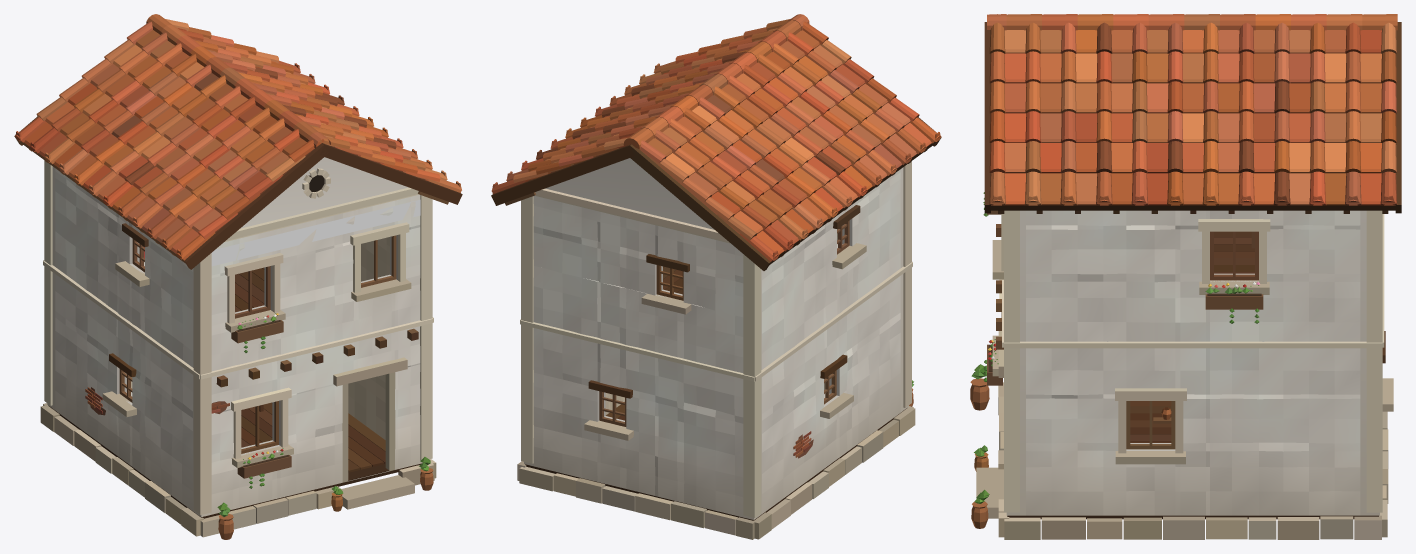
Rendered from pleb_2_2.glb.
3 views of the same model, side by side, from view 1: azimuth 30°, elevation 25°; view 2: azimuth 150°, elevation 25°; view 3: azimuth 270°, elevation 25° (orthographic). The views are drawn at different scales.
Visible parts, largest first — view 1: House, Walls, Rooms, Frieze; view 2: Walls, House, Rooms; view 3: House, Walls, Rooms.
Part boxes in pixels (<box>): House: <box>14,14,462,539</box>; Walls: <box>47,157,422,517</box>; Rooms: <box>131,237,389,472</box>; Frieze: <box>211,199,420,266</box>; Walls: <box>524,158,908,519</box>; House: <box>491,14,941,539</box>; Rooms: <box>605,229,837,420</box>; House: <box>970,14,1401,539</box>; Walls: <box>1006,210,1379,515</box>; Rooms: <box>1130,231,1254,442</box>.
Size of the model in its own units: 4.44 by 5.63 by 4.85.
4 materials, 4 textured.
